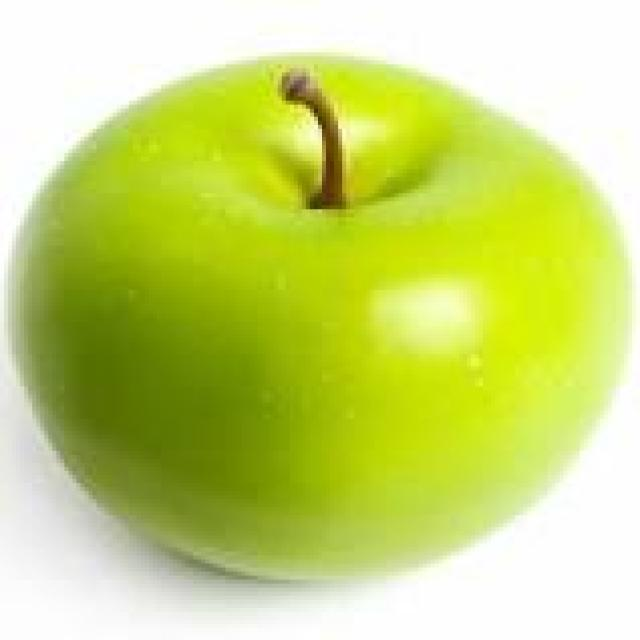apple: (9, 54, 632, 578)
